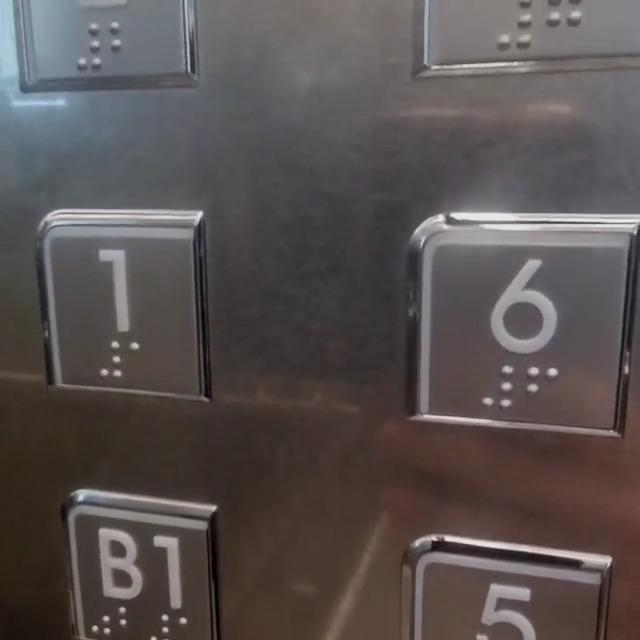button: (50, 216, 199, 400)
